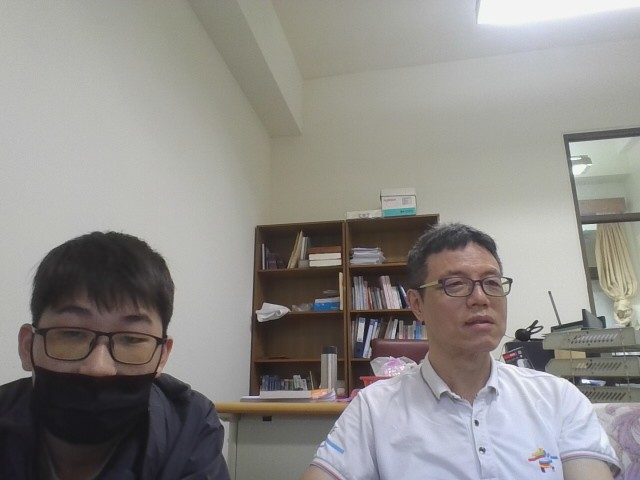No_Helmet: (21, 227, 177, 381), (400, 220, 515, 383)
person: (266, 205, 637, 480), (0, 215, 266, 480)
